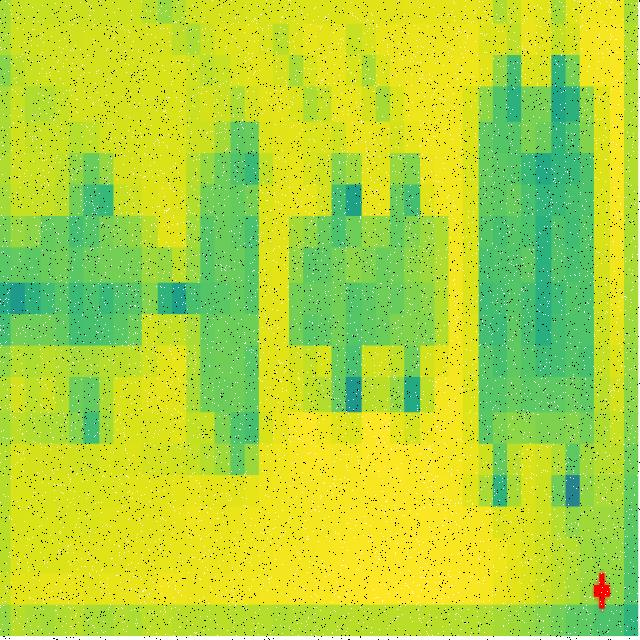Concrete: (289, 215, 450, 347)
Glass: (196, 155, 270, 436)
Metal: (480, 121, 599, 445)
Wood: (40, 213, 148, 355)
